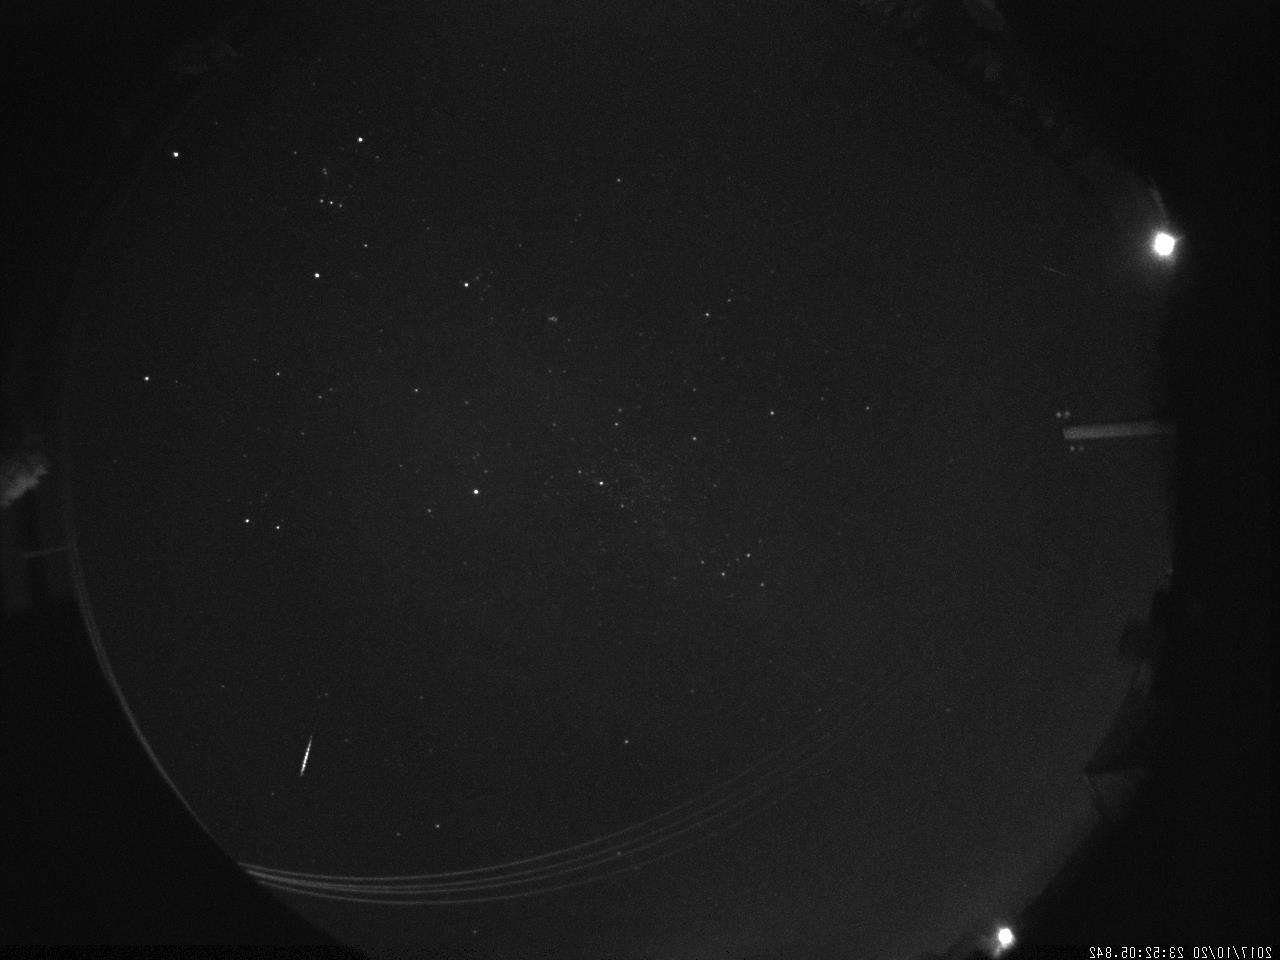meteor: (271, 730, 332, 787)
